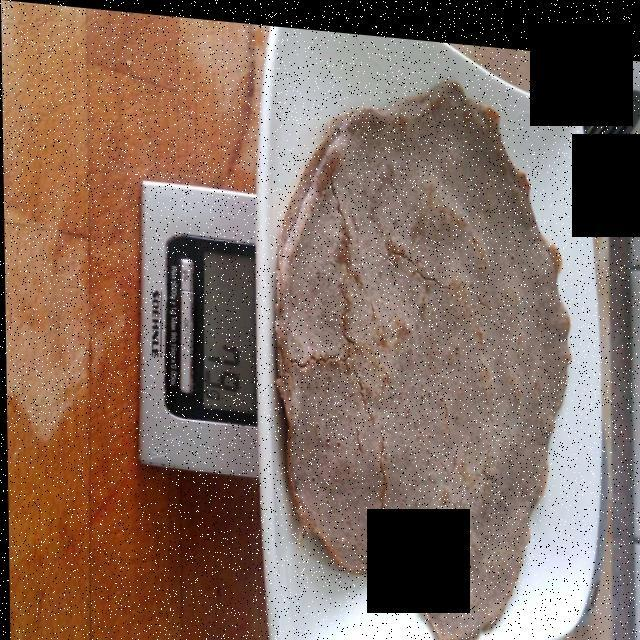pancake: (283, 83, 563, 630)
